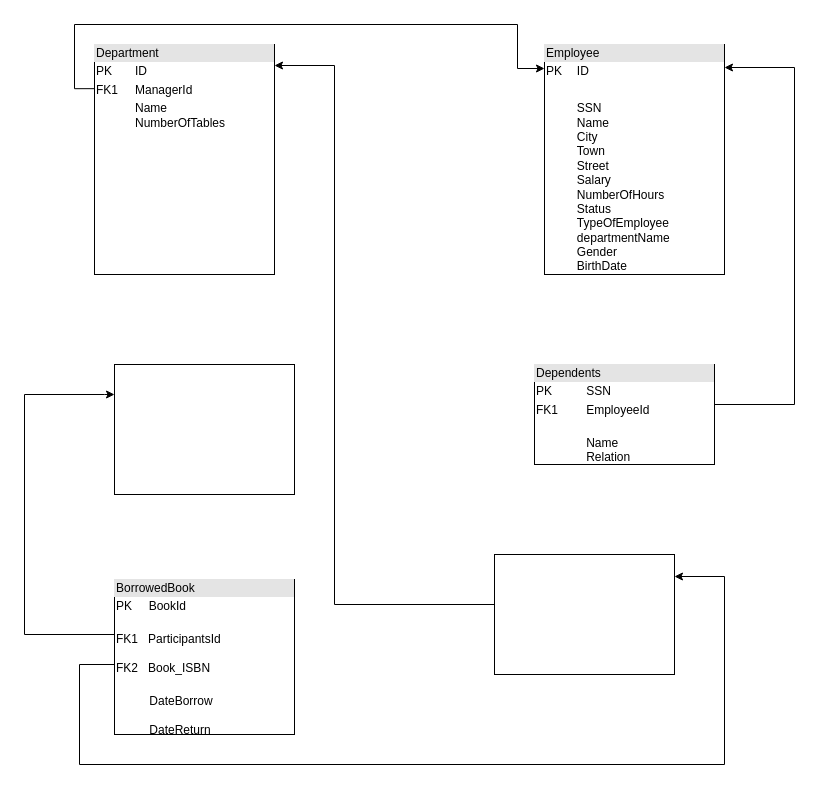
The diagram is 820 pixels wide and 790 high, and some of its shapes have lost their labels. Here are the shapes that lost their labels. From the top down, the centre of each, then its label:
At point 204,429: "Participants PK ParticipantsId SSN Name PhoneNumber Street Status".
At point 584,614: "Books PK ISBN FK1 DepartmentId Title Author PublishedYear Status".
